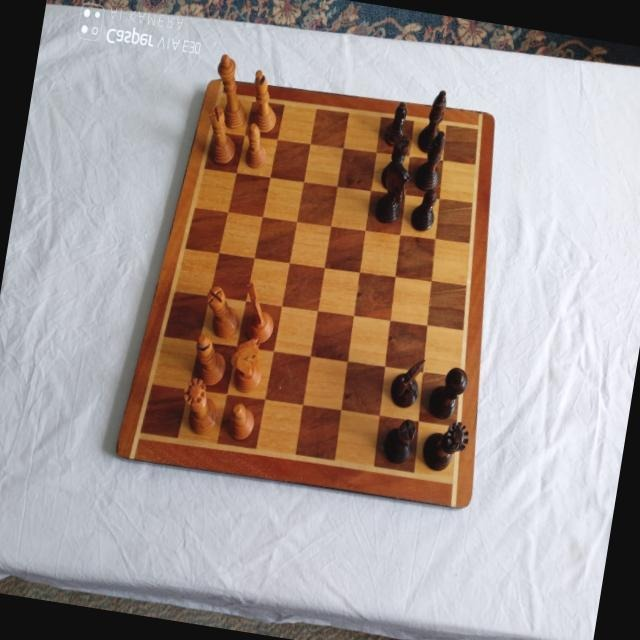black-bishop: (415, 88, 449, 154), (413, 128, 447, 192)
black-king: (426, 363, 470, 421)
black-knight: (372, 160, 412, 226), (389, 354, 427, 410)
black-pawn: (409, 186, 439, 233), (382, 99, 409, 148)
black-queen: (421, 416, 471, 474)
black-rook: (381, 416, 419, 466), (380, 132, 412, 188)
white-bishop: (246, 67, 284, 134), (189, 332, 231, 389)
white-king: (208, 53, 255, 131)
white-knight: (238, 280, 280, 345), (224, 332, 267, 395)
white-pawn: (243, 121, 271, 170), (225, 403, 256, 443)
white-queen: (177, 376, 223, 437)
white-rook: (201, 102, 242, 166), (200, 284, 243, 339)
